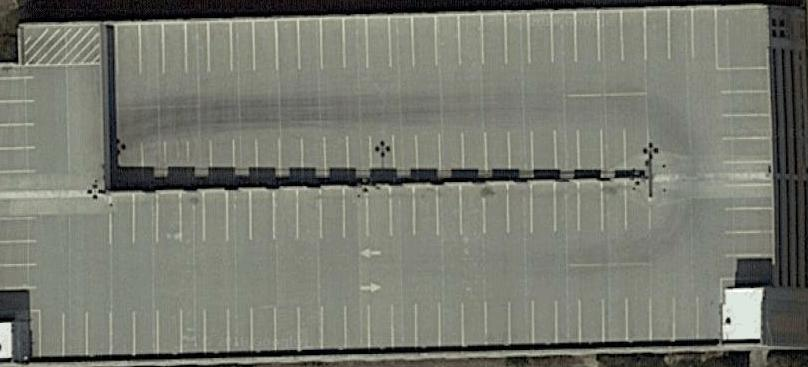parkingspot: (38, 293, 724, 362), (114, 7, 718, 78), (108, 178, 653, 246), (114, 126, 653, 193), (717, 66, 776, 280), (0, 75, 41, 315)
